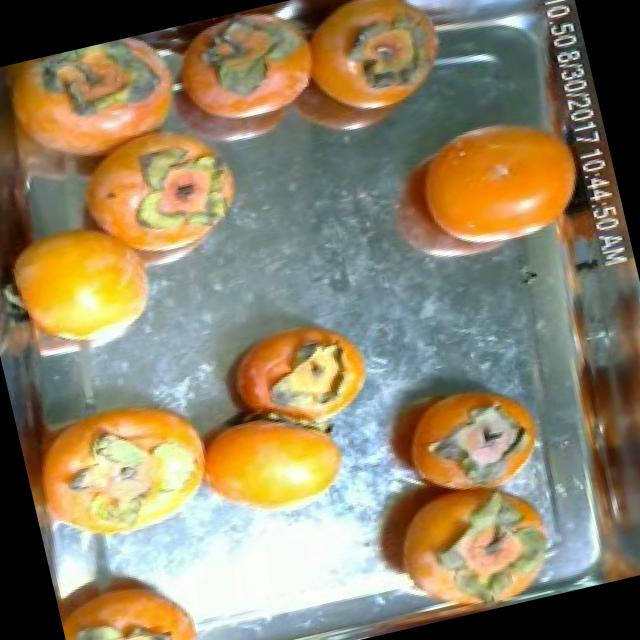Fruit: (363, 81, 613, 270), (0, 188, 189, 389), (169, 384, 372, 542), (204, 300, 392, 450)
